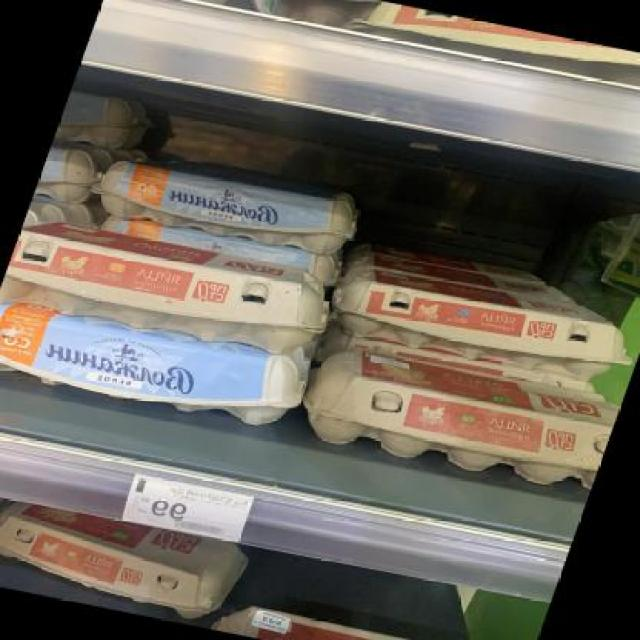Egg: (290, 338, 622, 496), (1, 212, 344, 362), (320, 256, 640, 393)
